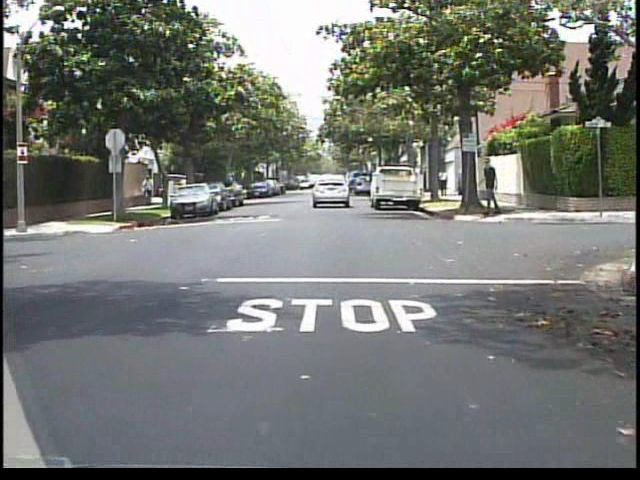person: (476, 156, 505, 218), (140, 174, 160, 207), (435, 163, 450, 200), (175, 173, 191, 205)
